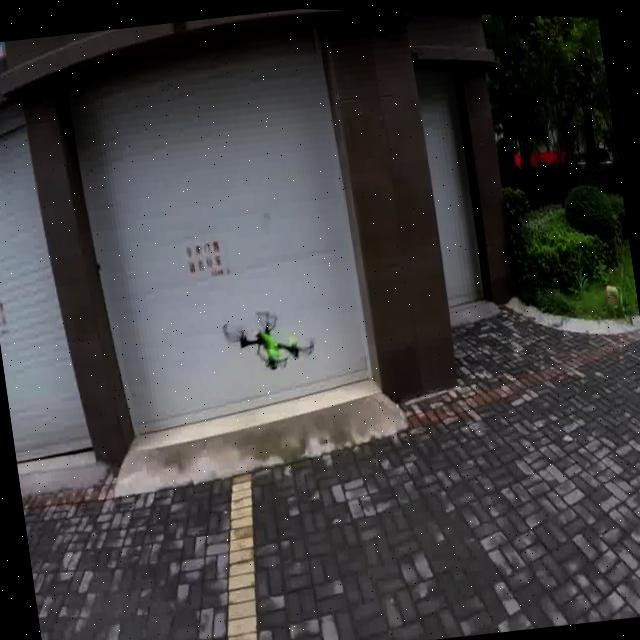drone: (218, 287, 316, 393)
